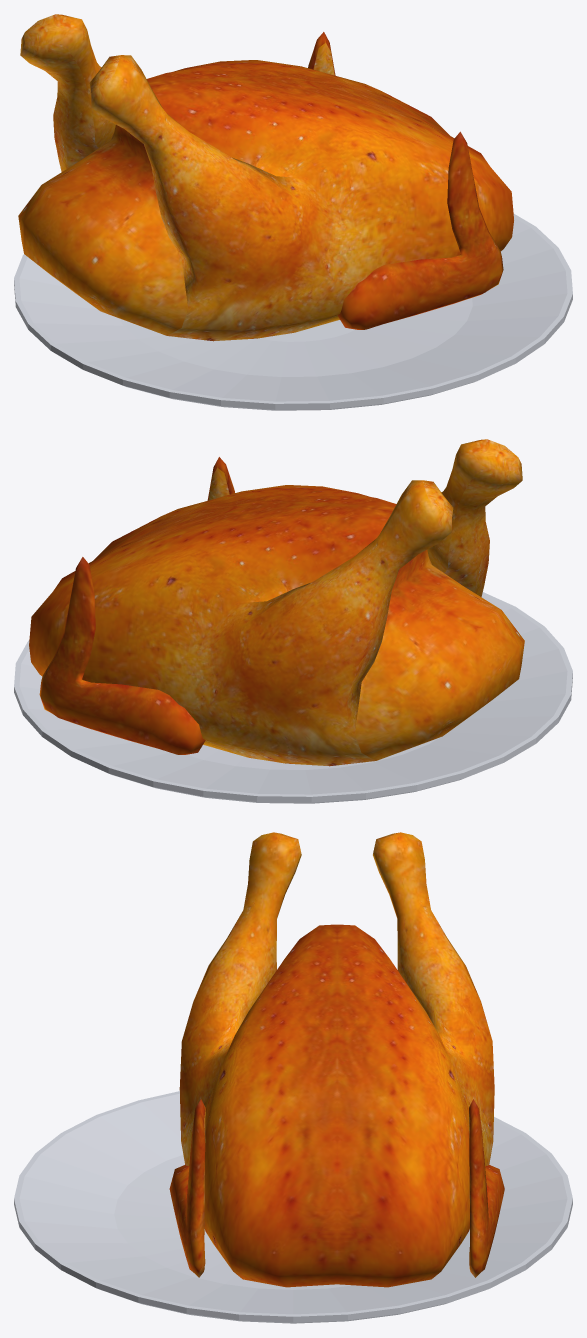
File: chicken.fbx
3 views of the same model, one above another, from view 1: azimuth 30°, elevation 25°; view 2: azimuth 150°, elevation 25°; view 3: azimuth 270°, elevation 25° (orthographic).
Visible parts, largest first — view 1: Cube.009, Cylinder.002; view 2: Cube.009, Cylinder.002; view 3: Cube.009, Cylinder.002.
Boxes of the visible parts, bbox=[...] form: Cube.009: bbox=[18, 14, 513, 341]; Cylinder.002: bbox=[14, 214, 572, 410]; Cube.009: bbox=[29, 439, 524, 766]; Cylinder.002: bbox=[14, 592, 572, 803]; Cube.009: bbox=[169, 832, 504, 1287]; Cylinder.002: bbox=[14, 1091, 572, 1323].
Bounding box in the file's own units: 17.77 × 10.7 × 17.77.
Materials: 2 (1 with a texture image).
